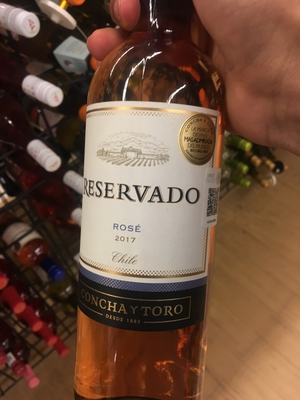reservado rose: (80, 11, 220, 392)
